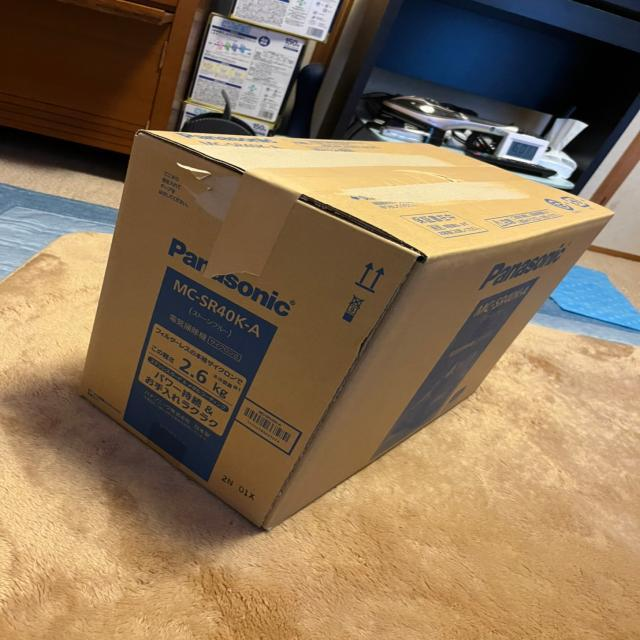box: (74, 126, 623, 538)
